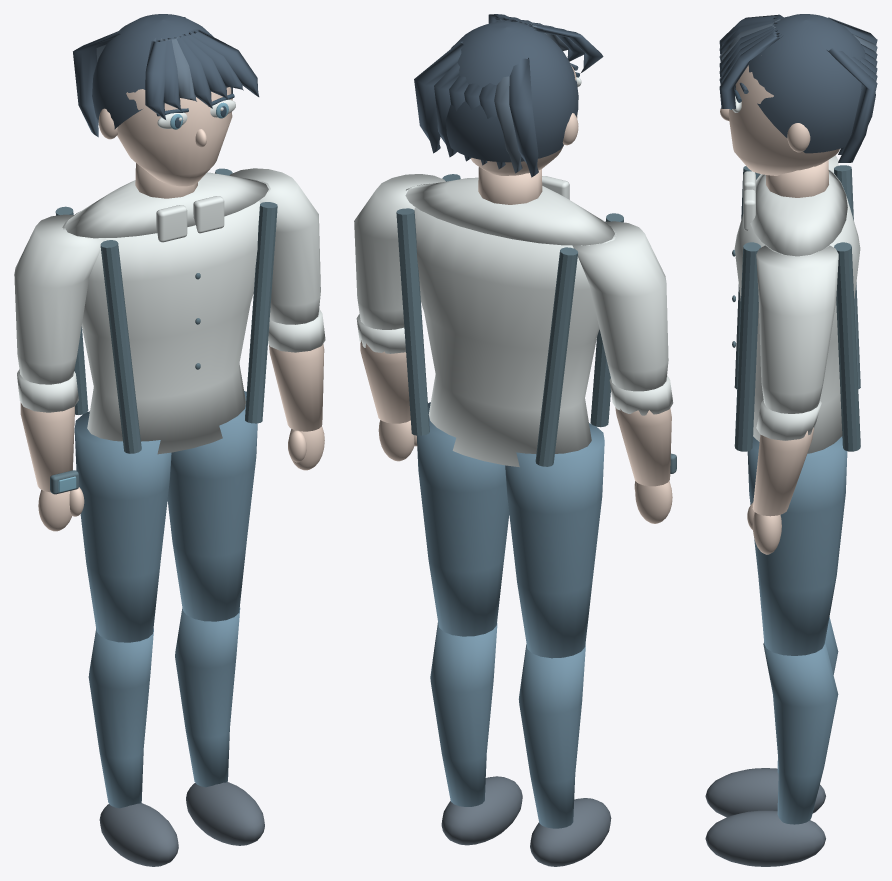
Rendered from st_shinpei_v02.fbx.
3 views of the same model, side by side, from view 1: azimuth 30°, elevation 25°; view 2: azimuth 150°, elevation 25°; view 3: azimuth 270°, elevation 25° (orthographic). The views are drawn at different scales.
Visible parts, largest first — view 1: TailoredTorso, Thigh, Thigh.001, UpperSleeve, Calf, Calf.001, UpperSleeve.001, Face, ShoulderLine, Scalp, Suspender.001, Suspender (+20 smaller); view 2: TailoredTorso, Thigh, Thigh.001, Scalp, UpperSleeve, Calf, Calf.001, ShoulderLine, UpperSleeve.001, SuspenderBack.001, SuspenderBack, Foot (+15 smaller); view 3: Thigh.001, UpperSleeve.001, Scalp, Calf.001, ShoulderLine, Foot.001, Face, TailoredTorso, SuspenderBack.001, Suspender.001, Forearm.001, Foot (+11 smaller).
Part boxes in pixels (x1,y1,x2,y2): TailoredTorso: (62, 181, 270, 454); Thigh: (74, 411, 171, 642); Thigh.001: (167, 391, 257, 621); UpperSleeve: (14, 214, 105, 384); Calf: (88, 629, 153, 808); Calf.001: (175, 607, 240, 787); UpperSleeve.001: (229, 168, 320, 324); Face: (117, 87, 232, 186); ShoulderLine: (64, 172, 268, 238); Scalp: (92, 14, 232, 129); Suspender.001: (245, 202, 277, 423); Suspender: (100, 240, 141, 453); TailoredTorso: (406, 183, 616, 467); Thigh: (505, 423, 604, 658); Thigh.001: (417, 402, 509, 636); Scalp: (445, 21, 578, 162); UpperSleeve: (572, 221, 668, 391); Calf: (518, 644, 585, 828); Calf.001: (430, 622, 497, 806); ShoulderLine: (405, 177, 614, 245); UpperSleeve.001: (354, 174, 445, 329); SuspenderBack.001: (396, 208, 429, 435); SuspenderBack: (535, 247, 577, 466); Foot: (530, 798, 611, 866); Thigh.001: (747, 436, 847, 655); UpperSleeve.001: (756, 245, 838, 413); Scalp: (748, 14, 875, 153); Calf.001: (763, 642, 838, 824); ShoulderLine: (750, 170, 847, 256); Foot.001: (705, 810, 825, 866); Face: (728, 65, 839, 175); TailoredTorso: (734, 170, 860, 453); SuspenderBack.001: (834, 242, 860, 451); Suspender.001: (734, 242, 760, 451); Forearm.001: (752, 427, 813, 516); Foot: (705, 768, 825, 817).
Bounding box in the file's own units: 0.692 × 1.8 × 0.342.
